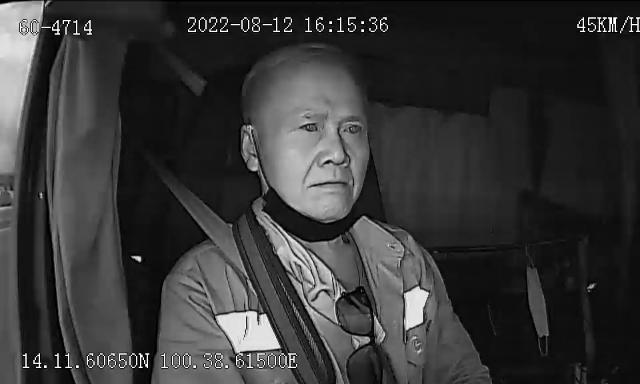SafeDriving: (334, 112, 370, 140), (290, 112, 326, 138)
Seatbelt: (157, 164, 357, 384)
